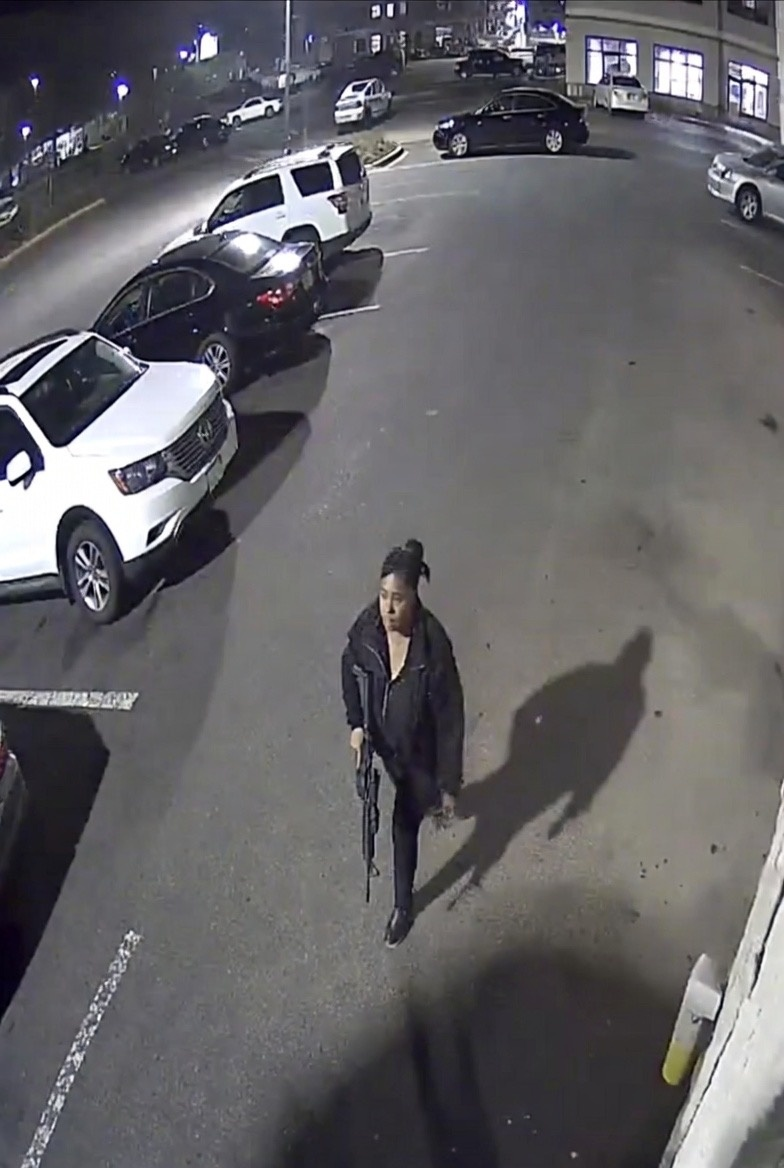gun: (334, 668, 393, 899)
person: (334, 531, 487, 940)
